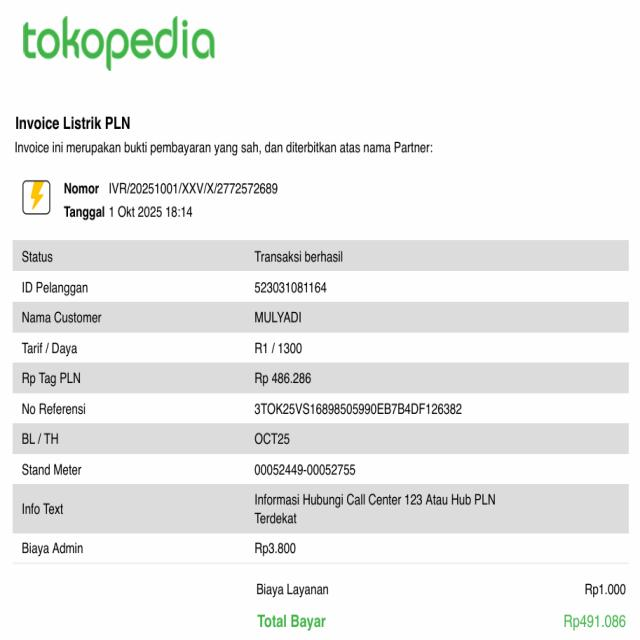date: (107, 201, 199, 224)
store: (20, 13, 218, 64), (14, 113, 134, 135)
total: (252, 608, 629, 640)
